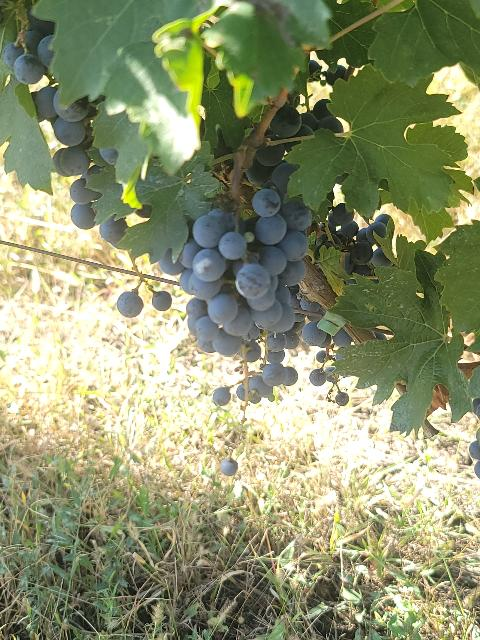grapes: (164, 189, 311, 402), (31, 85, 100, 229), (2, 14, 55, 85)
